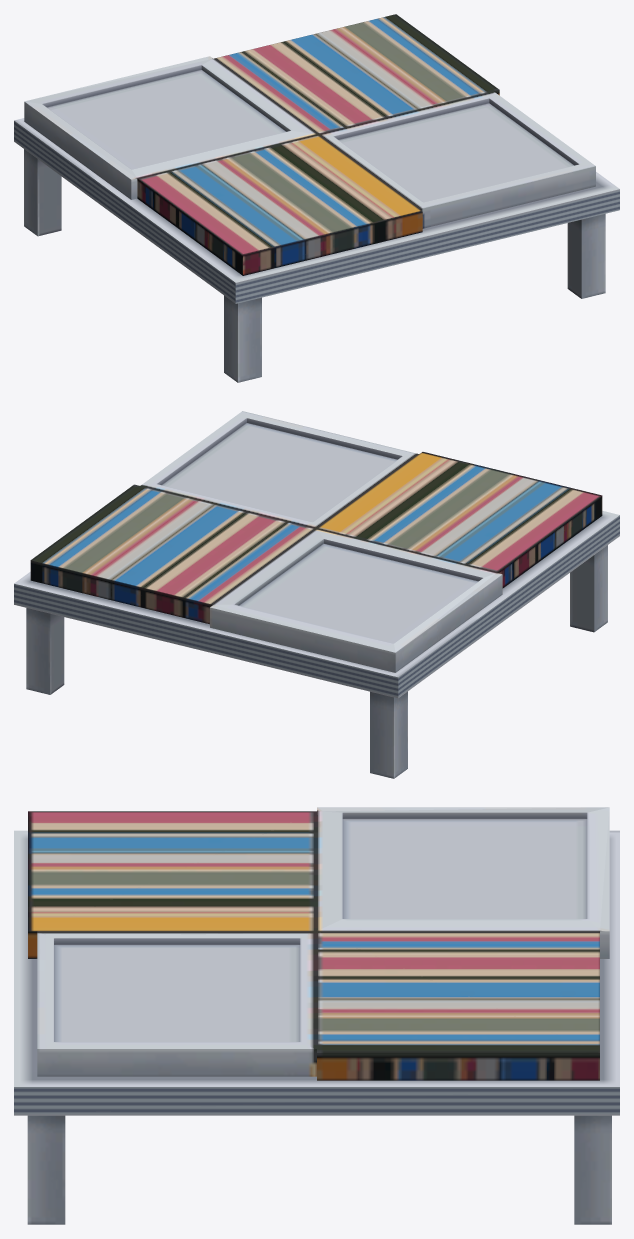
Rendered from furni_0200605.FBX.
The picture shows the model from 3 angles, top to bottom: view 1: azimuth 30°, elevation 25°; view 2: azimuth 150°, elevation 25°; view 3: azimuth 270°, elevation 25°; orthographic projection. The views are drawn at different scales.
Visible parts, largest first — view 1: furni_0200605; view 2: furni_0200605; view 3: furni_0200605.
Boxes of the visible parts, x1=… form: furni_0200605: x1=14, y1=14, x2=619, y2=382; furni_0200605: x1=14, y1=411, x2=619, y2=778; furni_0200605: x1=14, y1=807, x2=619, y2=1224.
Bounding box in the file's own units: 160 × 50.36 × 160.
Materials: 1 (1 with a texture image).
